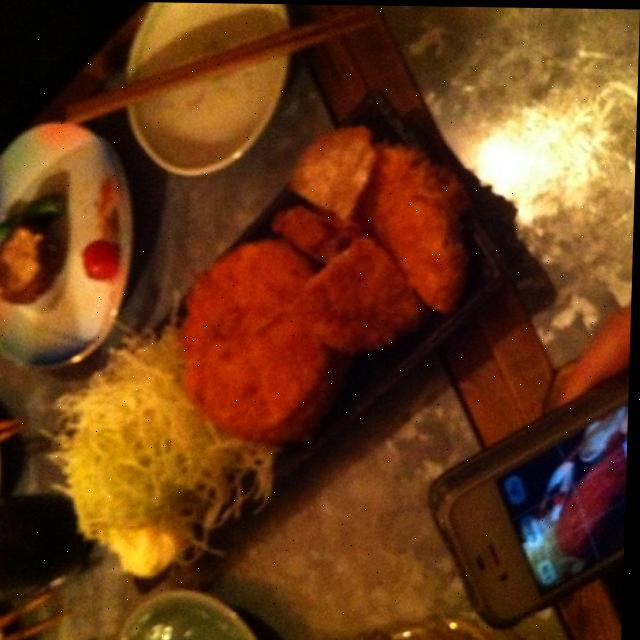炸货点心: (171, 125, 488, 464)
